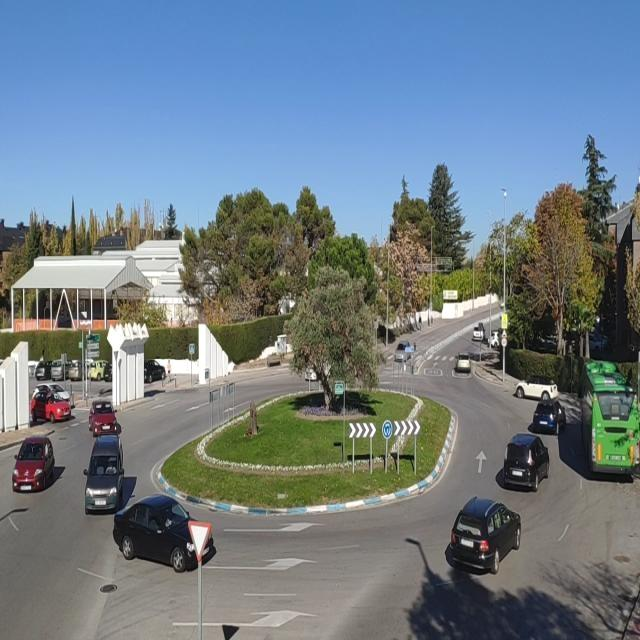Bus: (578, 357, 640, 477)
Car: (113, 496, 214, 572), (448, 496, 520, 574), (83, 439, 126, 512), (501, 435, 549, 490), (12, 437, 56, 492), (30, 391, 72, 423), (531, 398, 568, 433), (88, 400, 120, 436), (515, 375, 558, 401), (31, 383, 69, 403), (50, 359, 77, 381), (87, 359, 111, 382), (34, 360, 58, 381), (67, 360, 91, 381), (144, 360, 166, 382), (589, 332, 609, 353), (393, 342, 413, 363), (455, 353, 471, 372), (489, 330, 501, 348), (472, 325, 485, 341), (103, 360, 112, 382)
